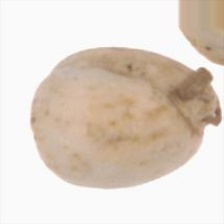L3: (171, 72, 221, 138)
L4: (31, 47, 219, 190)
